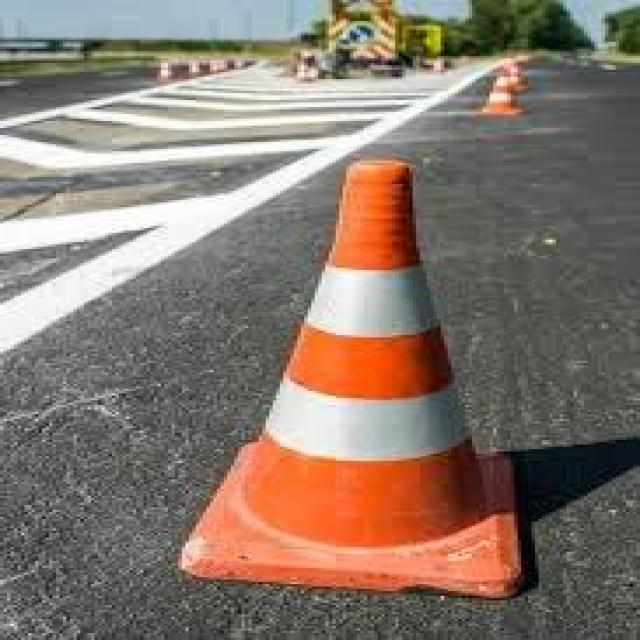cone: (175, 163, 536, 607), (476, 70, 524, 117)
